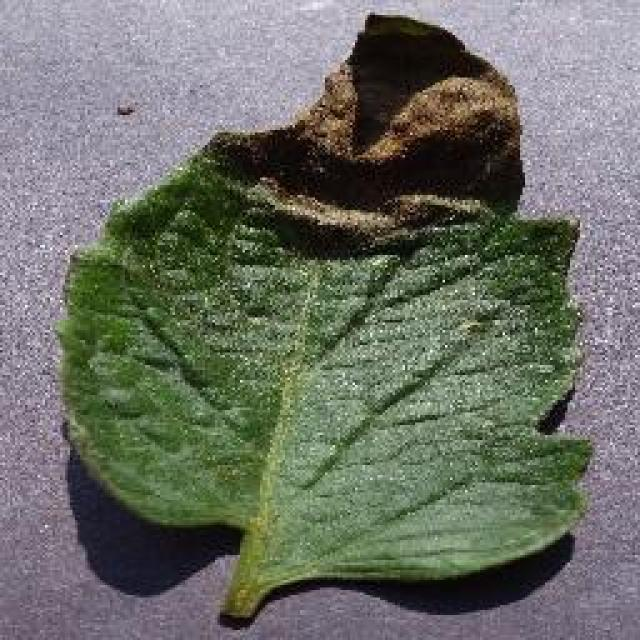Tomato___Late_blight: (55, 15, 595, 625)
